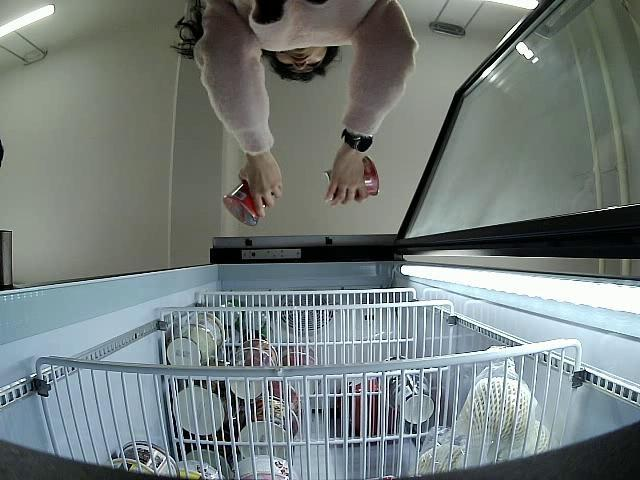02_shinRamen_S: (324, 155, 380, 198), (222, 182, 268, 226)
